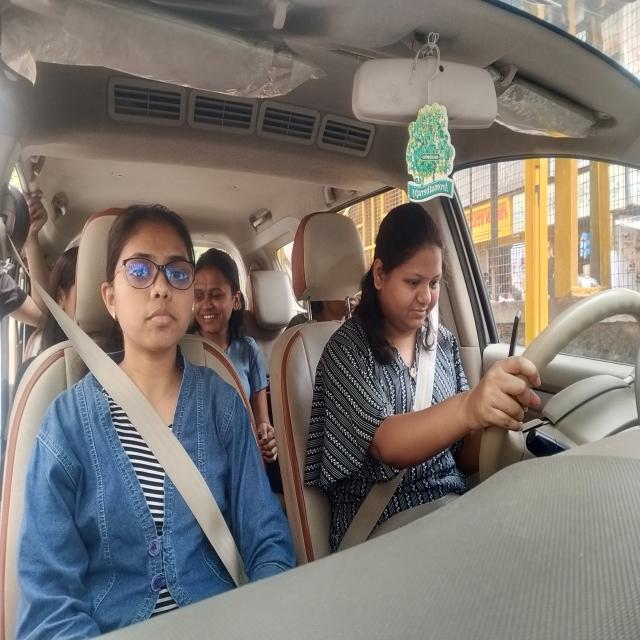mobile: (498, 308, 526, 359)
person: (108, 216, 197, 352), (375, 214, 449, 328), (198, 262, 242, 342), (49, 249, 80, 342), (300, 301, 350, 321)
